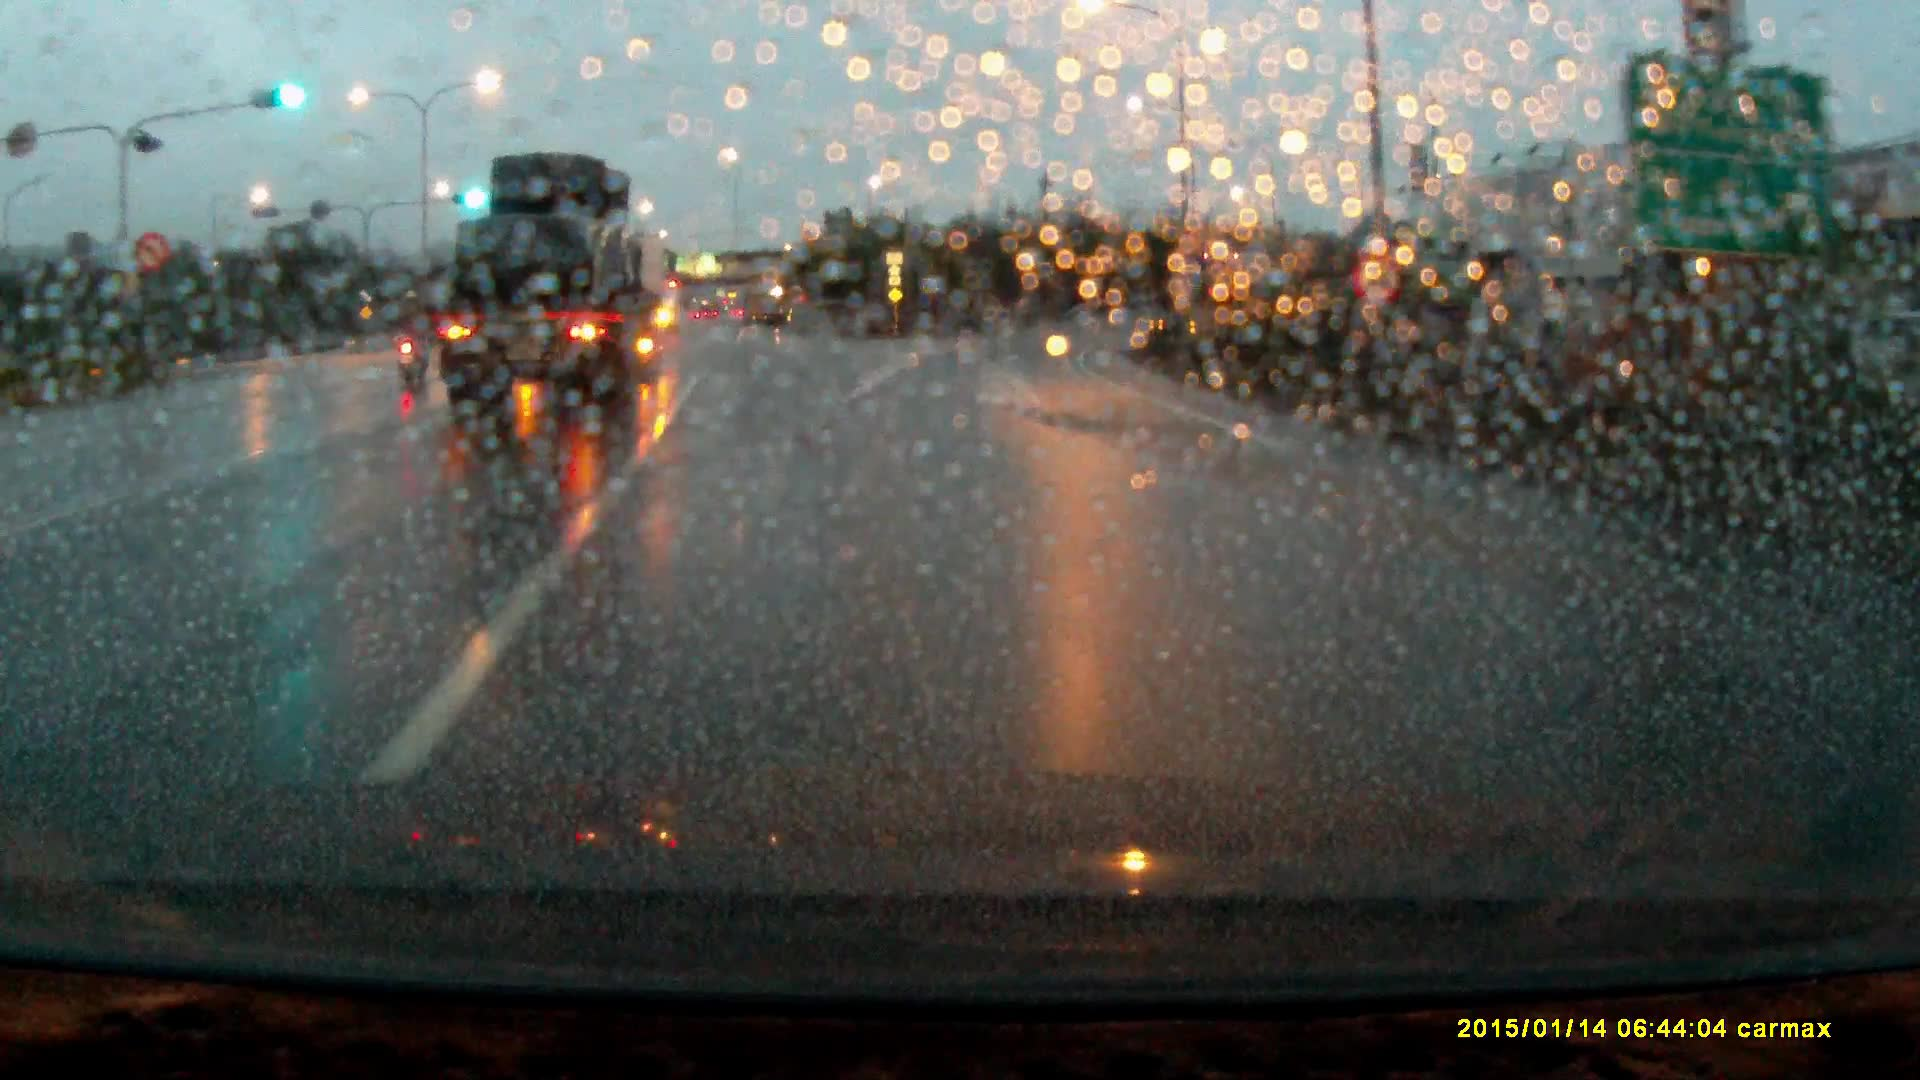rider: (386, 286, 438, 396)
vehicle: (441, 151, 666, 431)
